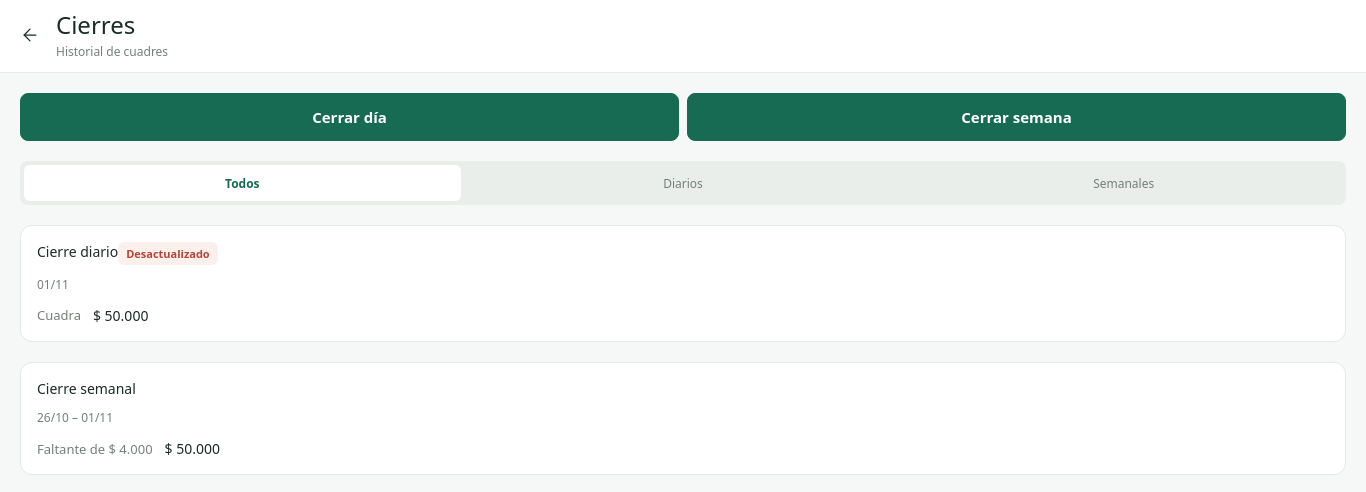
Test: Cierres › filtra por tipo
Expected: the text "Cierre semanal" is shown, [37, 379, 136, 398]
Click the radio button labelled "Diarios": (683,183) [465, 165, 901, 201]
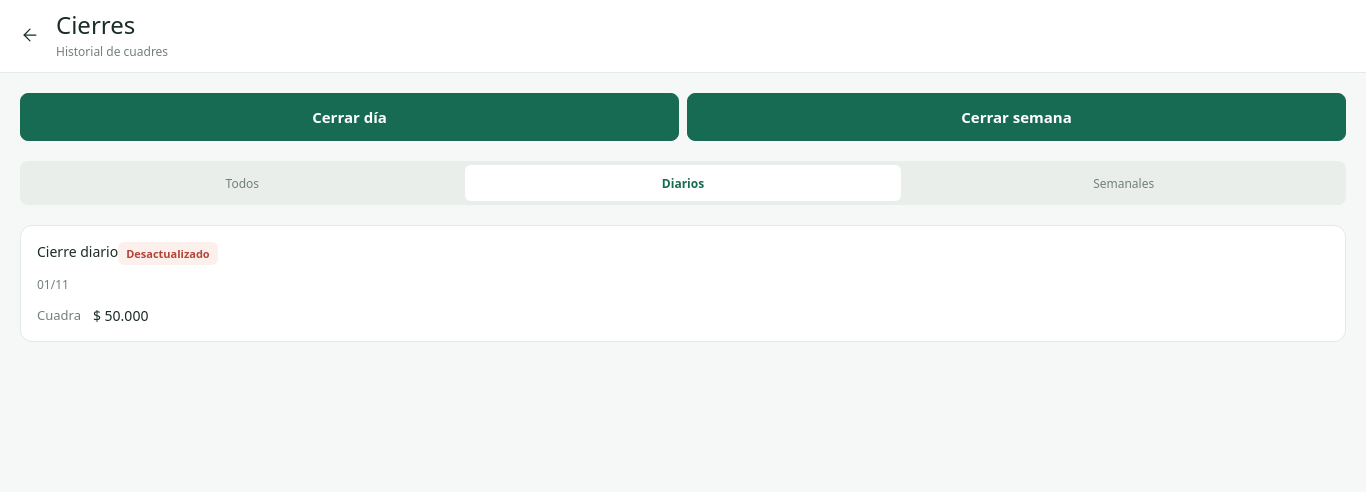
Now the button "Cierre semanal" is gone
